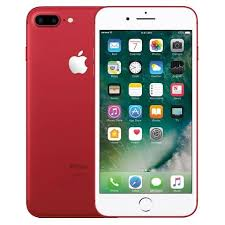iphone: (90, 1, 202, 220)
iphone7: (89, 1, 201, 220)
